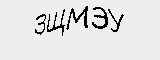З: (35, 14, 47, 34)
М: (66, 3, 91, 32)
У: (108, 10, 124, 35)
Щ: (47, 6, 63, 36)
Э: (90, 4, 109, 31)
